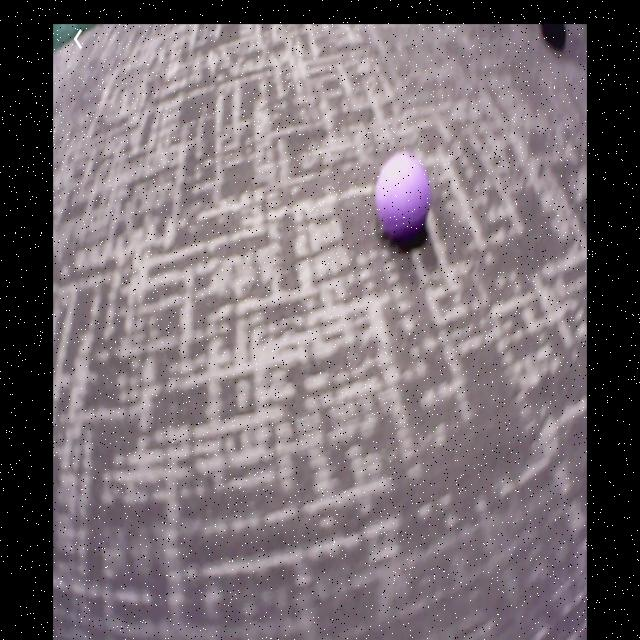ball: (377, 154, 432, 238)
